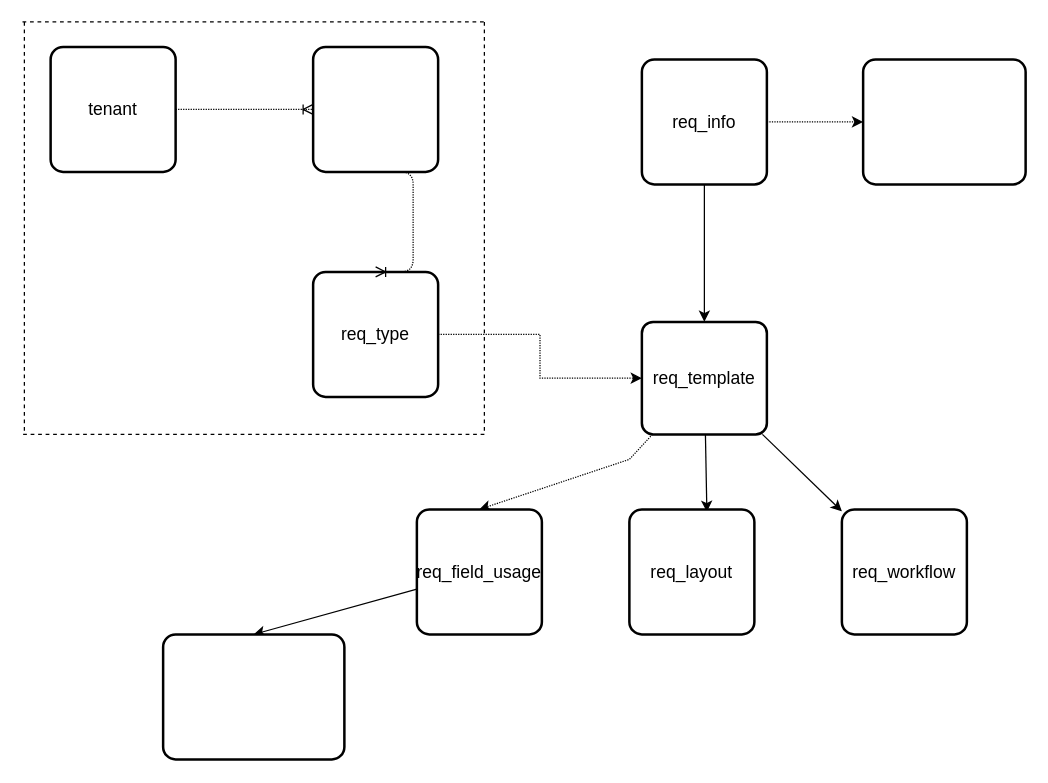
This 1048x783 diagram has some shape labels left out. Here are the shapes that lost their labels. From the top down, the centre of each, then its label:
the point at 375,108: dataspace
the point at 943,121: req_info_custom
the point at 253,696: req_fields
